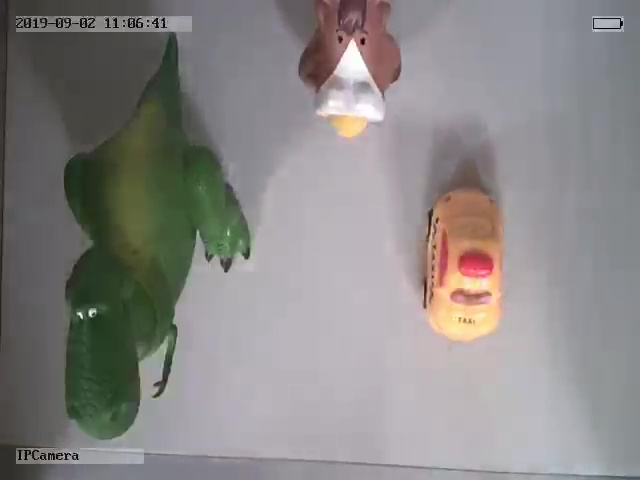car: (423, 184, 505, 341)
horse: (295, 2, 403, 140)
rex: (62, 38, 251, 439)
